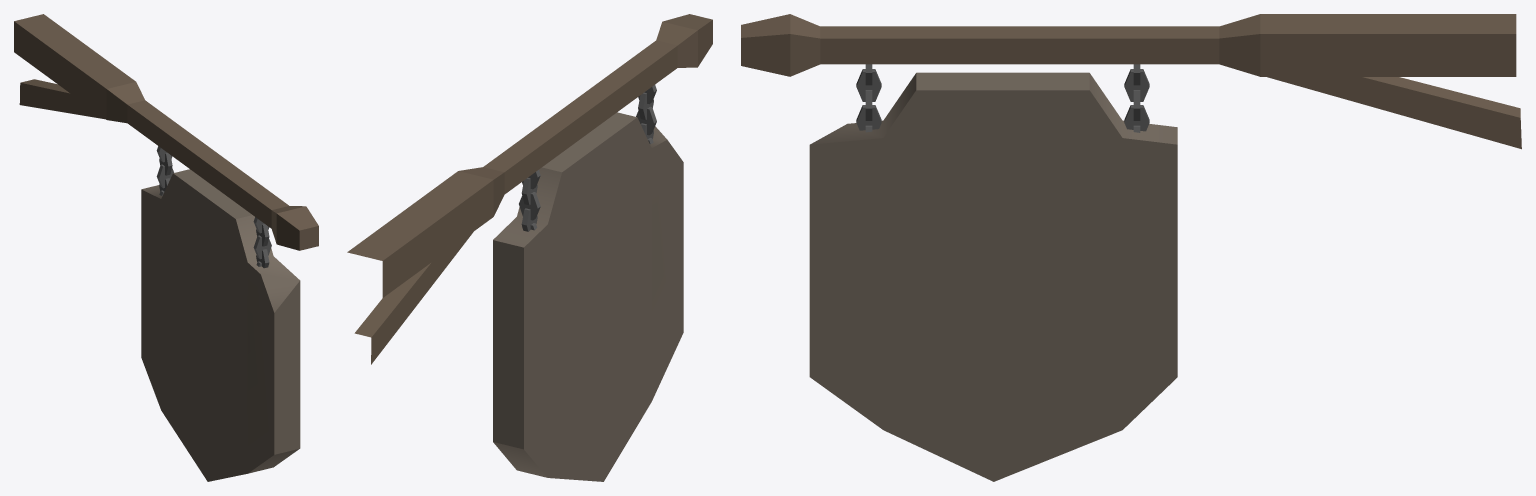
Rendered from SM_Prop_Sign_Attachment_02.glb.
3 views of the same model, side by side, from view 1: azimuth 30°, elevation 25°; view 2: azimuth 150°, elevation 25°; view 3: azimuth 270°, elevation 25° (orthographic). The views are drawn at different scales.
Parts seen in each view (by area): view 1: SM_Prop_Sign_Attachment_02; view 2: SM_Prop_Sign_Attachment_02; view 3: SM_Prop_Sign_Attachment_02.
Part boxes in pixels (<box>): SM_Prop_Sign_Attachment_02: <box>14,14,318,481</box>; SM_Prop_Sign_Attachment_02: <box>347,14,712,481</box>; SM_Prop_Sign_Attachment_02: <box>741,14,1521,481</box>.
Bounding box in the file's own units: 0.00134 × 0.0136 × 0.0215.
